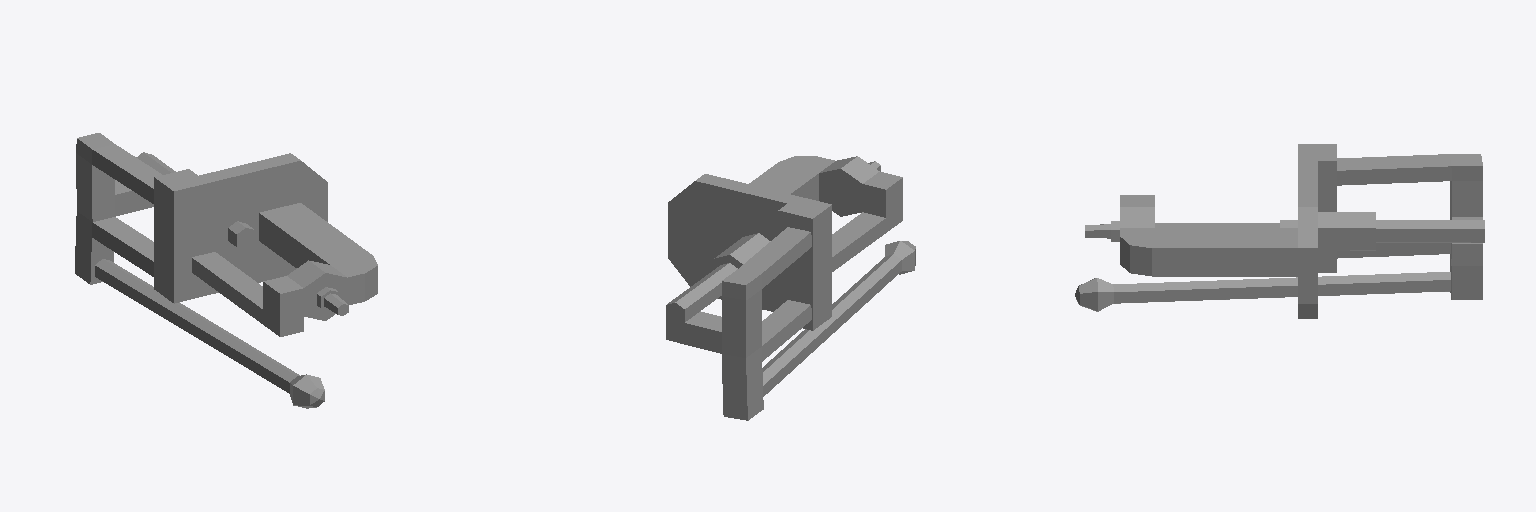
Rendered from Reloadingpress.obj.
3 views of the same model, side by side, from view 1: azimuth 30°, elevation 25°; view 2: azimuth 150°, elevation 25°; view 3: azimuth 270°, elevation 25° (orthographic).
Visible parts, largest first — view 1: .0002_.0004; view 2: .0002_.0004; view 3: .0002_.0004.
Part boxes in pixels (left/top/right/bottom): .0002_.0004: left=75, top=133, right=377, bottom=408; .0002_.0004: left=666, top=156, right=915, bottom=420; .0002_.0004: left=1075, top=144, right=1484, bottom=318.
Size of the model in its own units: 0.1406 by 0.1263 by 0.3099.